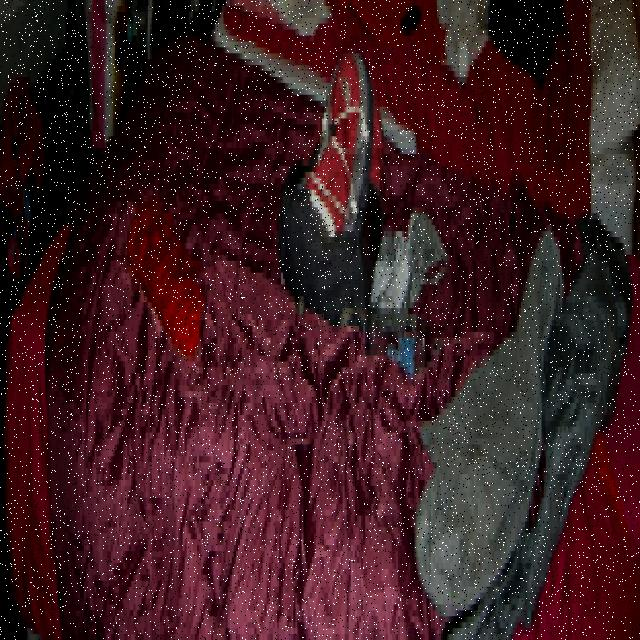bed: (9, 1, 640, 630)
